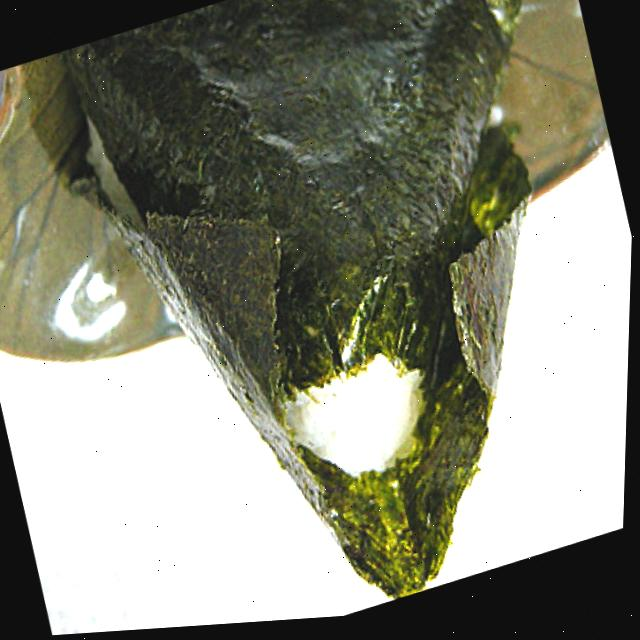米饭主食: (19, 0, 640, 638)
